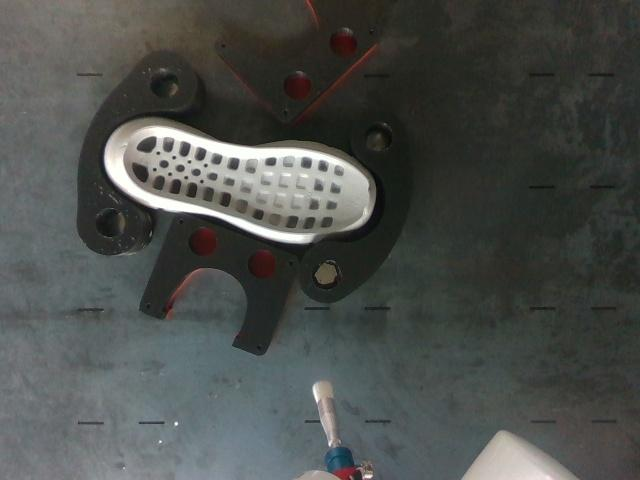shoes: (122, 127, 370, 234)
